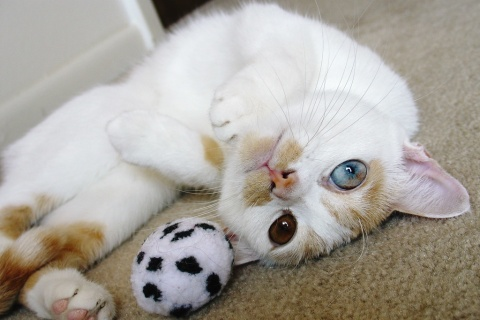Cat: (0, 0, 473, 319)
